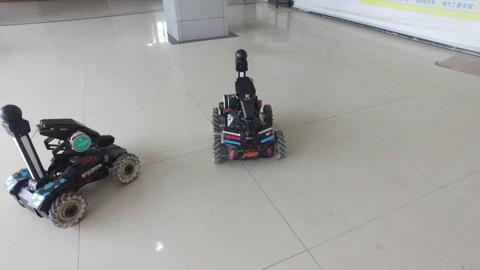chariot: (1, 102, 144, 229), (207, 46, 288, 171)
